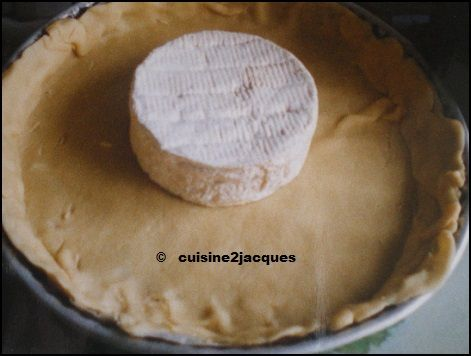camembert: (128, 27, 321, 209)
